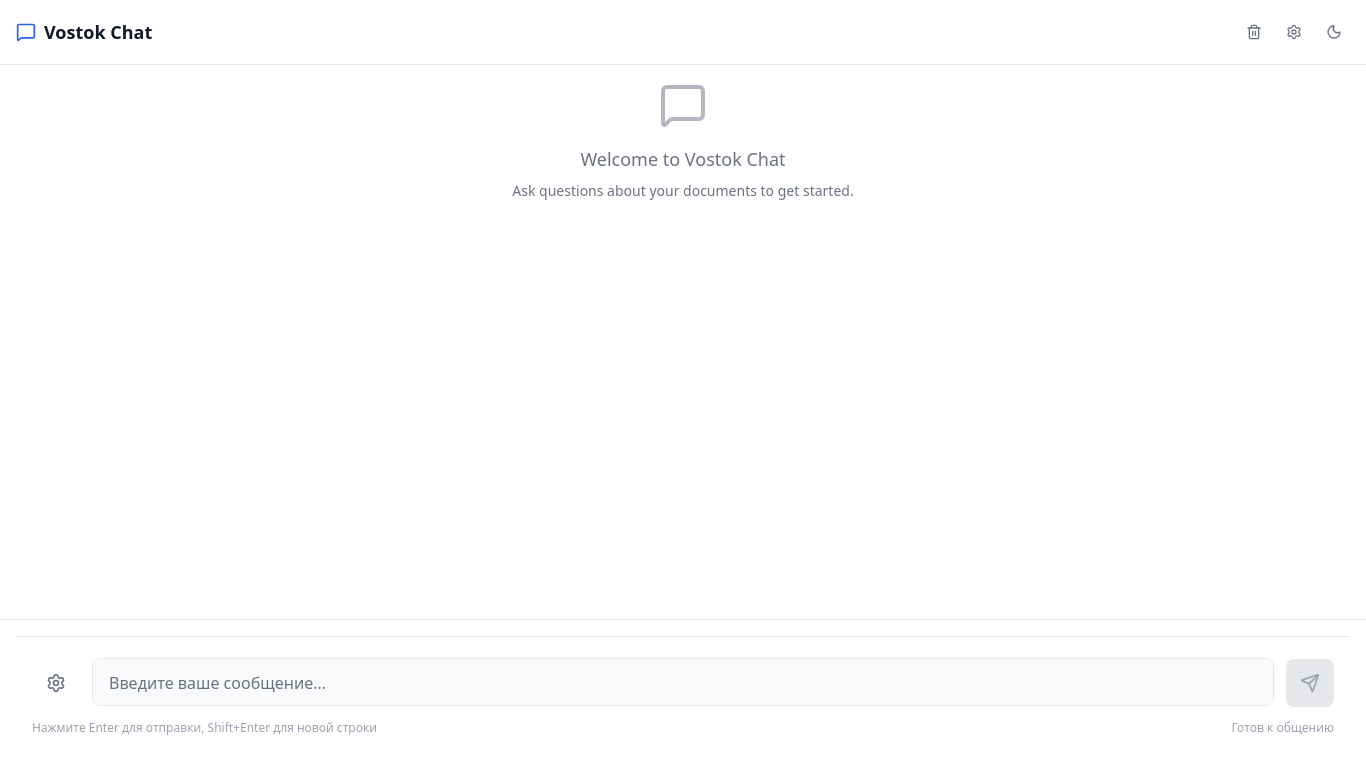
ChatInterface › sends a message and streams assistant response
Type "Hi" into the text box with test id "chat-input" at (683, 682), box [92,658,1274,706]
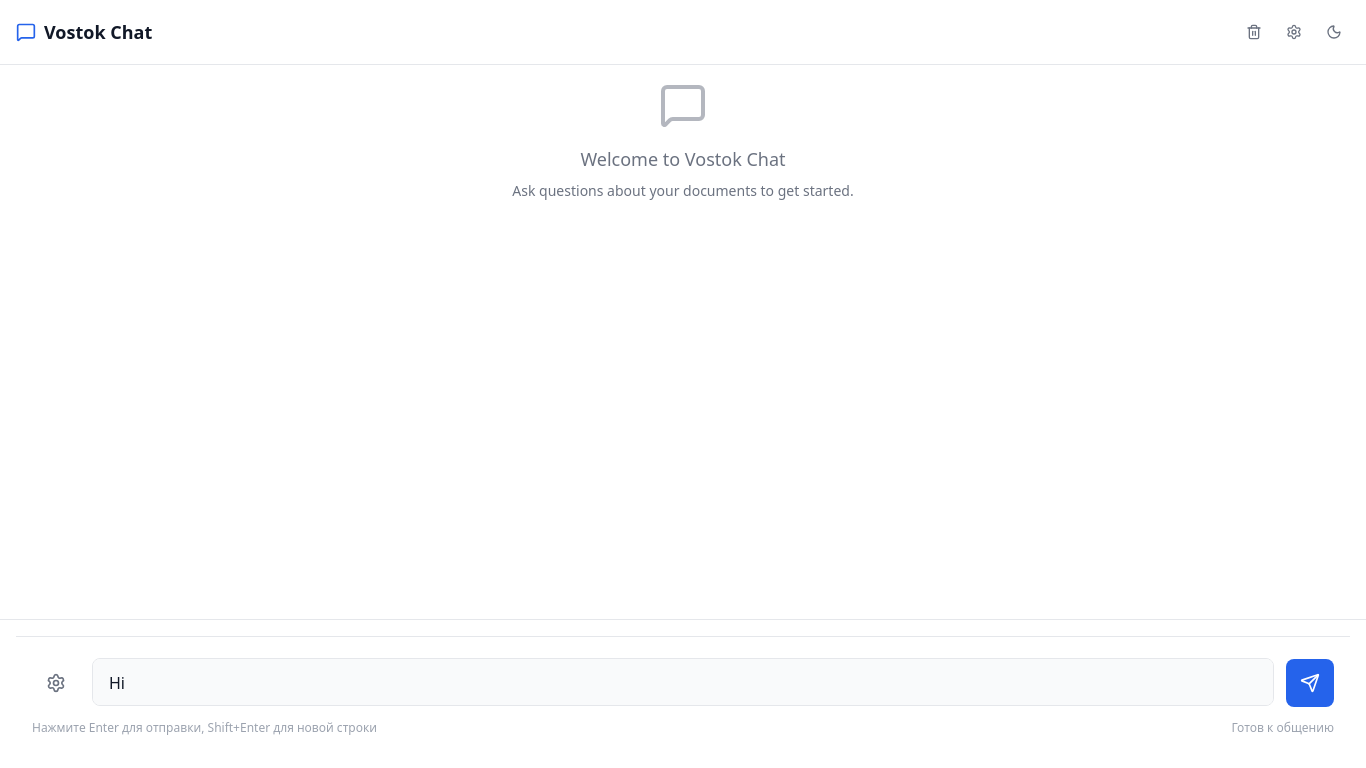
Click the button with test id "send-button" at (1310, 682), box [1286,658,1334,706]
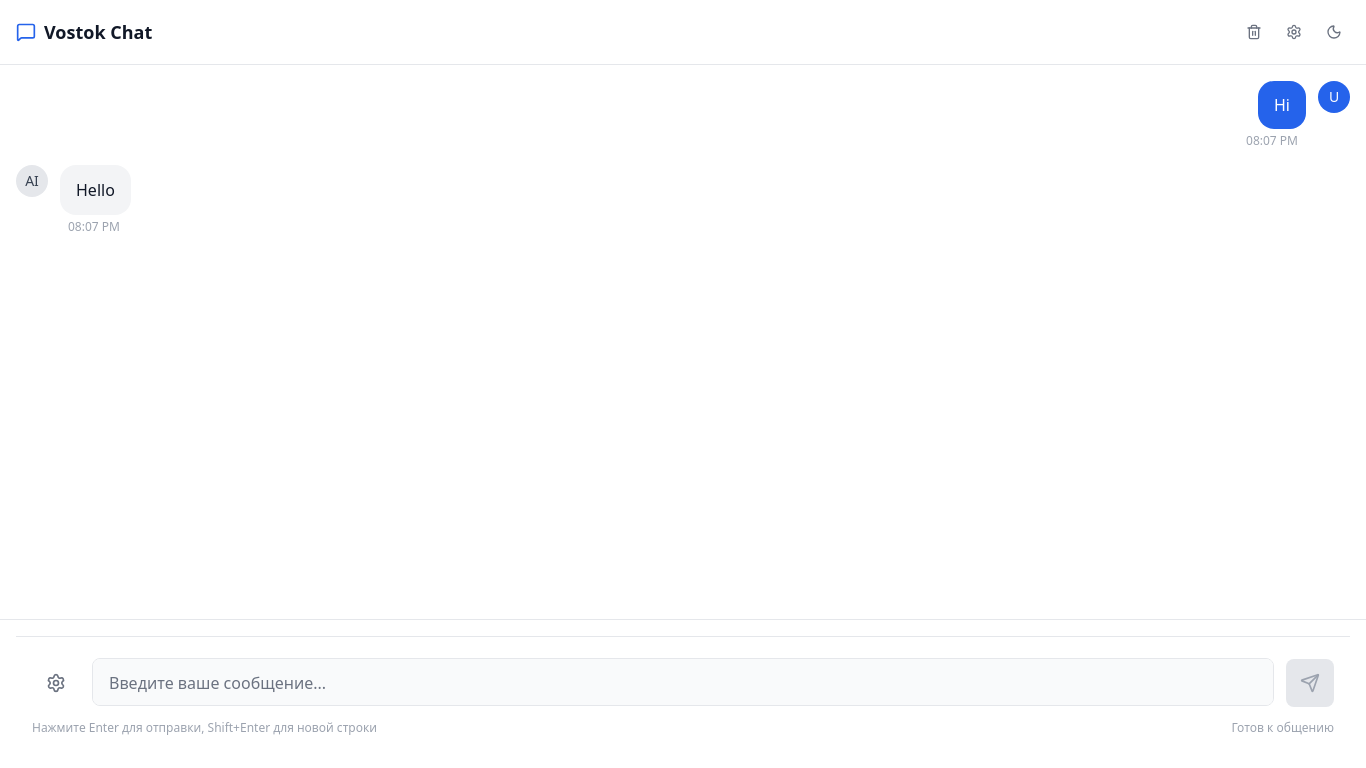
Now the element with test id "message-user" is shown, box [1246,81,1350,149]
Now the element with test id "message-assistant" is shown, box [16,165,131,235]
Now the element with test id "message-content" reads "Hello", box [76,179,115,201]
